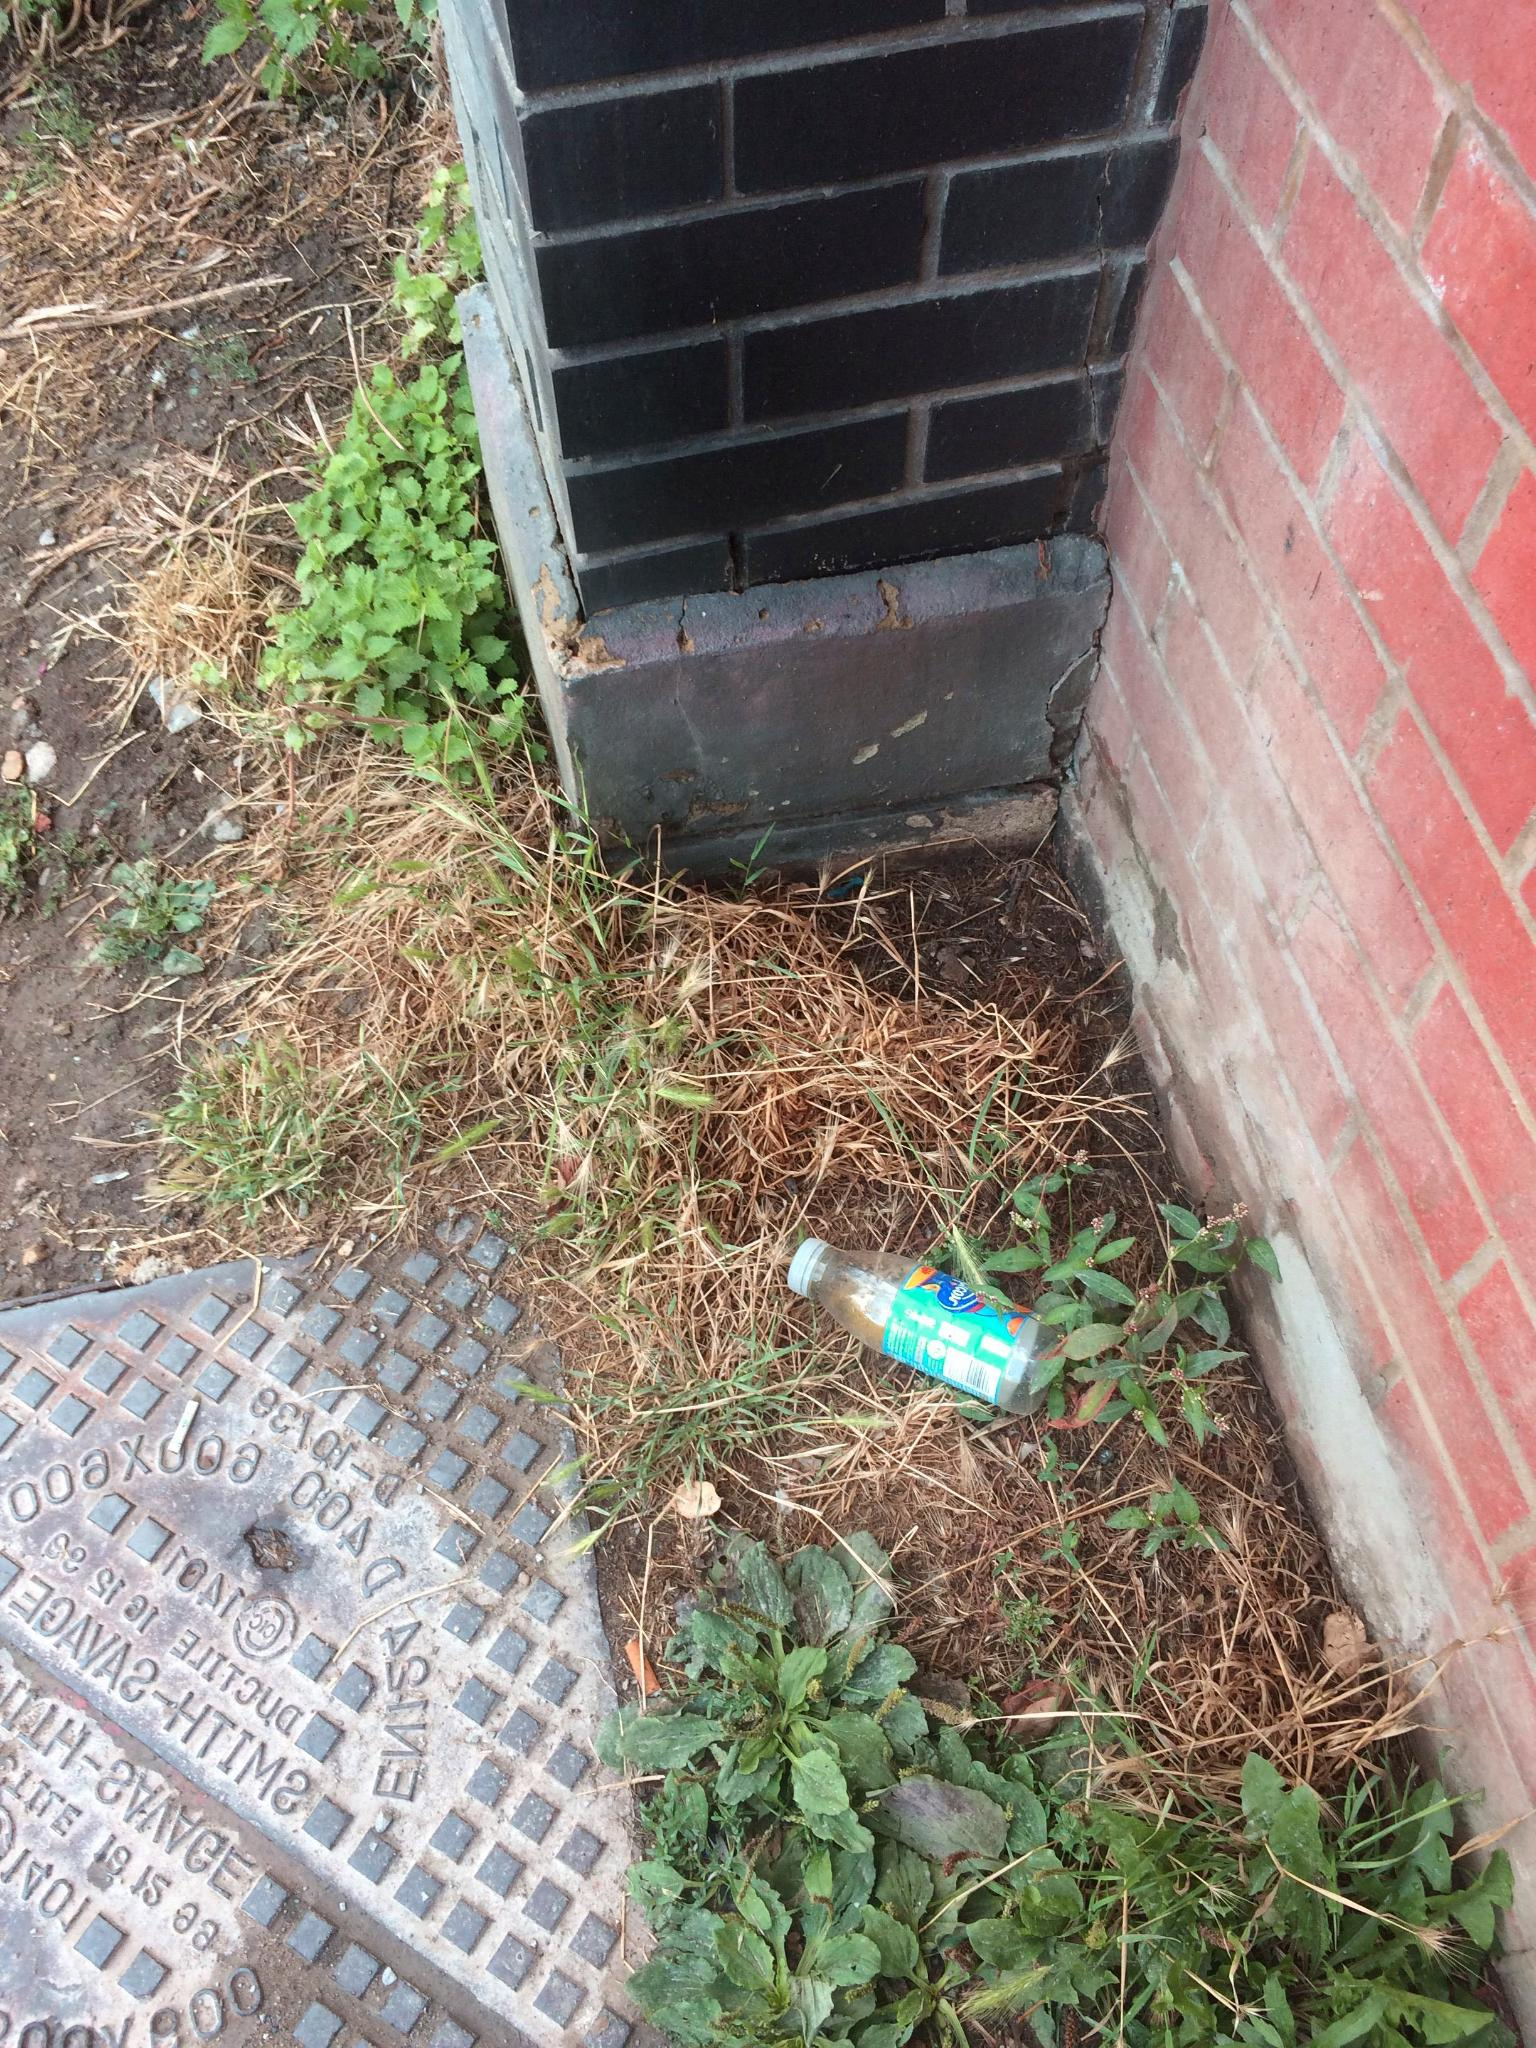Plastic: (726, 1211, 1096, 1430)
